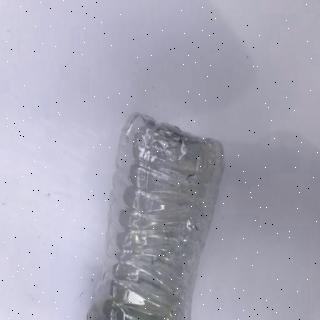Plastic-bottle: (84, 108, 228, 320)
